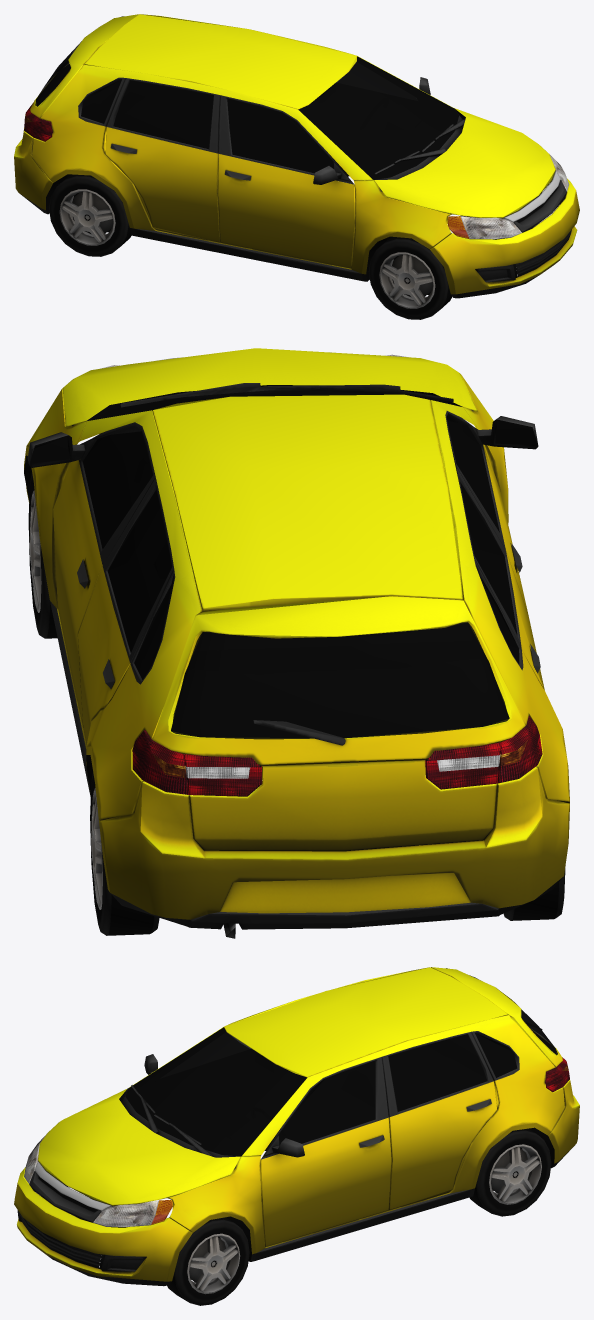
Rendered from generico-hatch.glb.
3 renders of one model, top to bottom at view 1: azimuth 30°, elevation 25°; view 2: azimuth 150°, elevation 25°; view 3: azimuth 270°, elevation 25°, orthographic. The views are drawn at different scales.
Visible parts, largest first — view 1: Hatchback Body, Wheel_B002, Wheel_B003; view 2: Hatchback Body, Wheel_B001, Wheel_B, Wheel_B003; view 3: Hatchback Body, Wheel_B, Wheel_B001.
Part boxes in pixels (x1,y1,x2,y2): Hatchback Body: (14,14,579,298); Wheel_B002: (368,236,452,319); Wheel_B003: (49,174,131,256); Hatchback Body: (24,348,569,938); Wheel_B001: (90,771,159,935); Wheel_B: (28,472,57,638); Wheel_B003: (503,868,565,920); Hatchback Body: (14,967,579,1286); Wheel_B: (167,1217,249,1305); Wheel_B001: (469,1128,551,1216).
Size of the model in its own units: 3.1 by 1.35 by 3.69.
4 materials, 3 textured.
